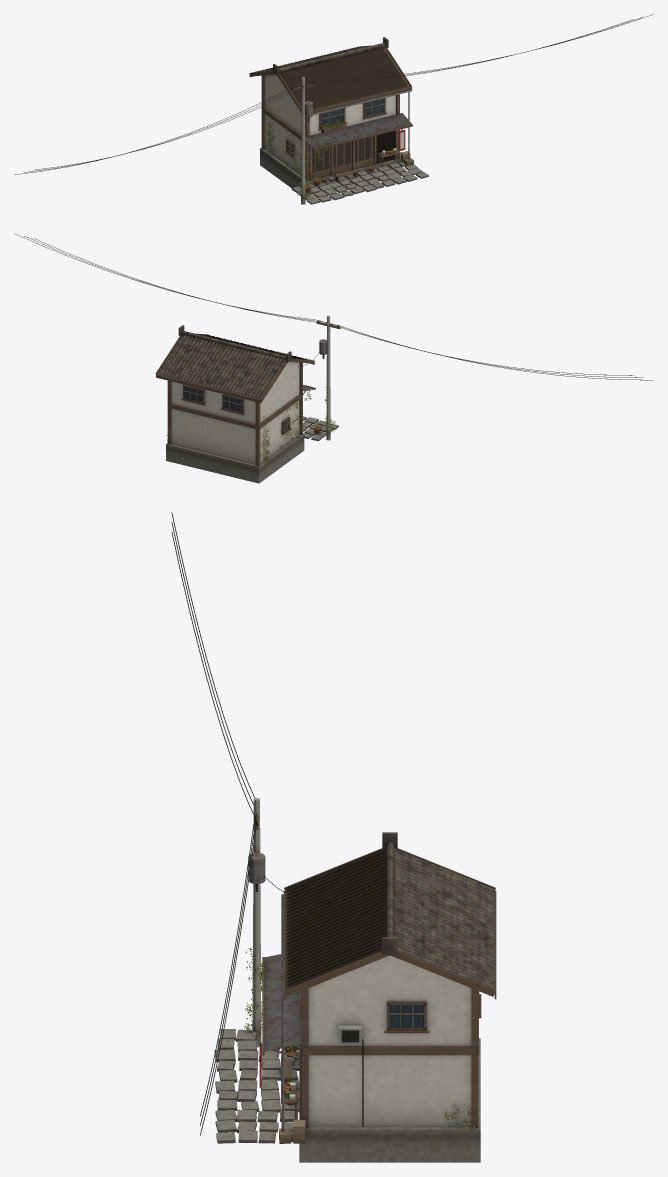
Rendered from house_shop.glb.
3 views of the same model, one above another, from view 1: azimuth 30°, elevation 25°; view 2: azimuth 150°, elevation 25°; view 3: azimuth 270°, elevation 25° (orthographic). The views are drawn at different scales.
Parts seen in each view (by area): view 1: house_shop; view 2: house_shop; view 3: house_shop.
Part boxes in pixels (x1=…): house_shop: x1=14, y1=14, x2=653, y2=204; house_shop: x1=14, y1=233, x2=653, y2=483; house_shop: x1=171, y1=512, x2=496, y2=1162.
Size of the model in its own units: 51.6 by 10.1 by 11.47.
1 material, 1 textured.
